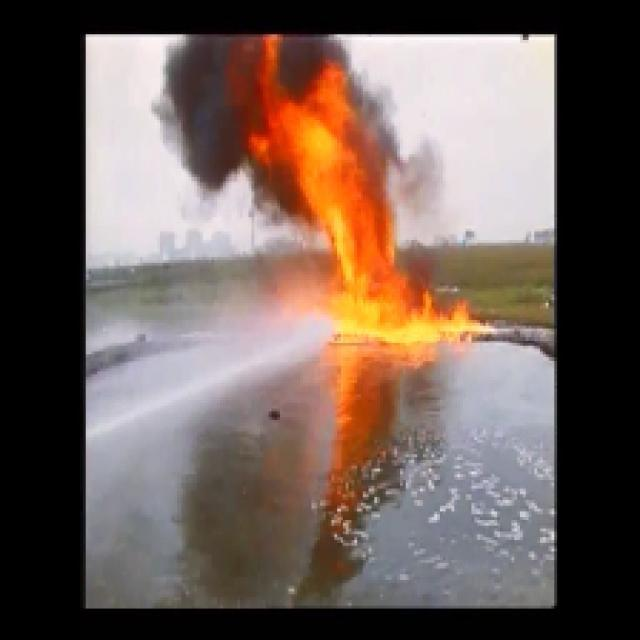Fire: (256, 97, 354, 215), (336, 224, 395, 334)
Smoke: (177, 45, 248, 172)
